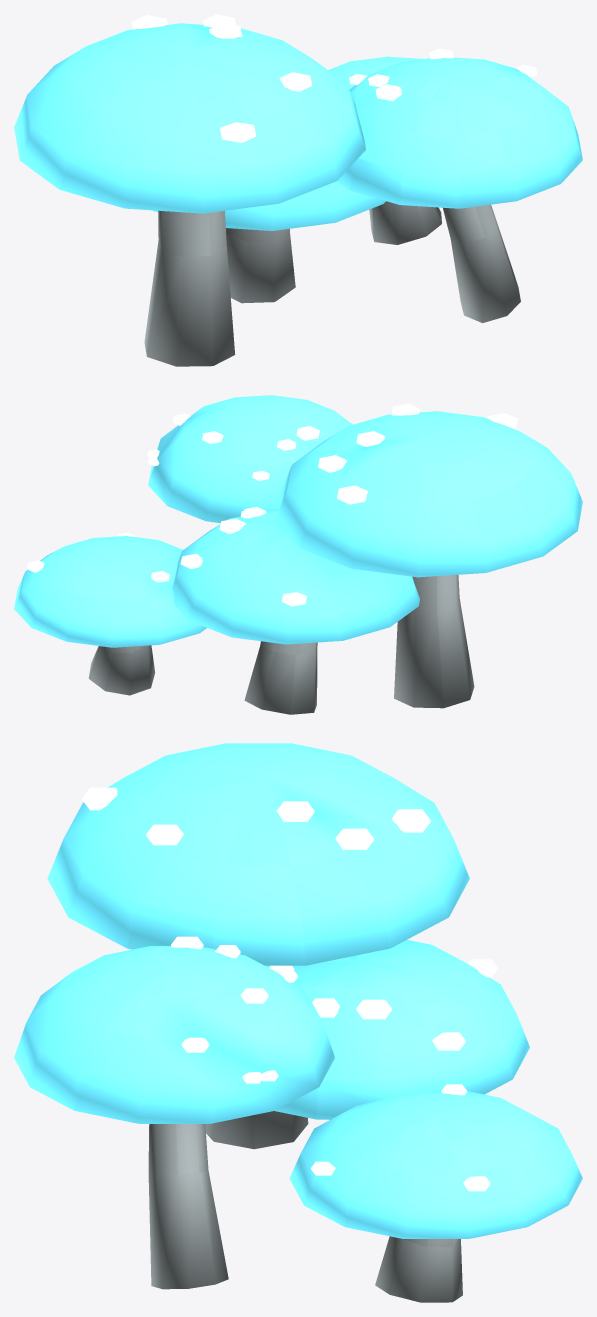
Rendered from obj_deco_hongos_3.glb.
The picture shows the model from 3 angles, top to bottom: view 1: azimuth 30°, elevation 25°; view 2: azimuth 150°, elevation 25°; view 3: azimuth 270°, elevation 25°; orthographic projection. The views are drawn at different scales.
Parts seen in each view (by area): view 1: propforge-libre-deco_hongos; view 2: propforge-libre-deco_hongos; view 3: propforge-libre-deco_hongos.
Part boxes in pixels (<box>): propforge-libre-deco_hongos: <box>14,14,582,366</box>; propforge-libre-deco_hongos: <box>14,395,582,714</box>; propforge-libre-deco_hongos: <box>14,743,582,1302</box>.
Bounding box in the file's own units: 0.5219 × 0.2846 × 0.4064.
